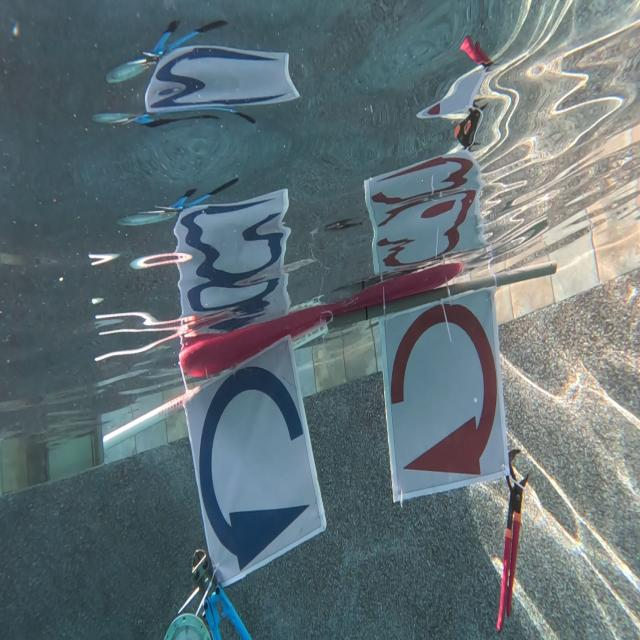blue_side: (198, 364, 306, 564)
red_side: (382, 296, 498, 487)
